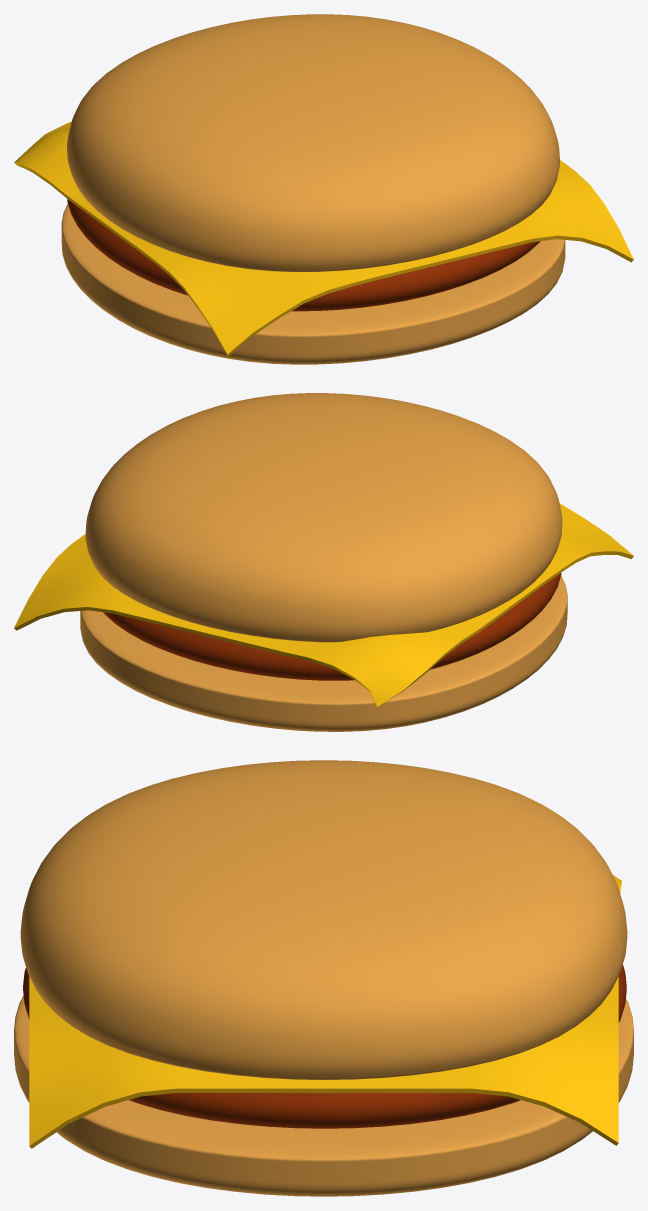
File: hamburger.glb
3 views of the same model, one above another, from view 1: azimuth 30°, elevation 25°; view 2: azimuth 150°, elevation 25°; view 3: azimuth 270°, elevation 25° (orthographic). The views are drawn at different scales.
Parts seen in each view (by area): view 1: Cube.002, Cube, Plane, Cube.001; view 2: Cube.002, Cube, Plane, Cube.001; view 3: Cube.002, Cube, Plane, Cube.001.
Part boxes in pixels (x1,y1,x2,y2): Cube.002: (67,14,559,271); Cube: (61,204,565,364); Plane: (14,122,633,356); Cube.001: (67,199,540,311); Cube.002: (85,393,562,642); Cube: (80,575,567,731); Plane: (14,503,633,706); Cube.001: (103,573,561,680); Cube.002: (20,760,627,1079); Cube: (14,995,633,1196); Plane: (29,875,621,1148); Cube.001: (23,964,626,1128).
Bounding box in the file's own units: 9.23 × 4.23 × 9.23.
